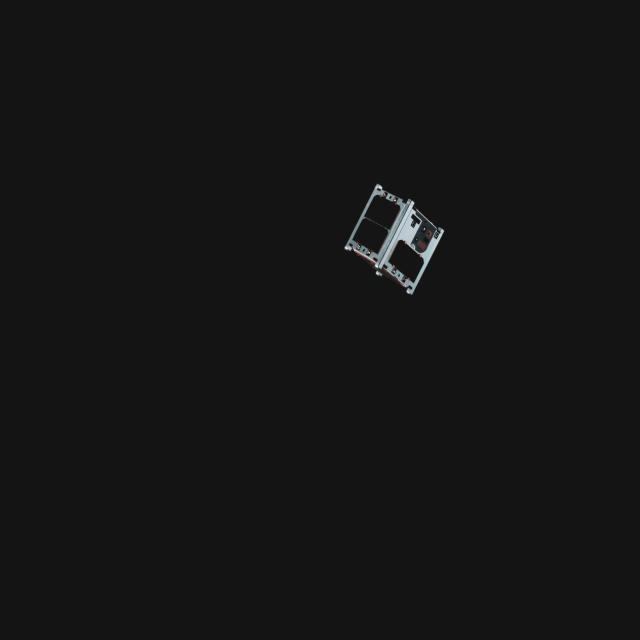satellite: (336, 172, 451, 300)
